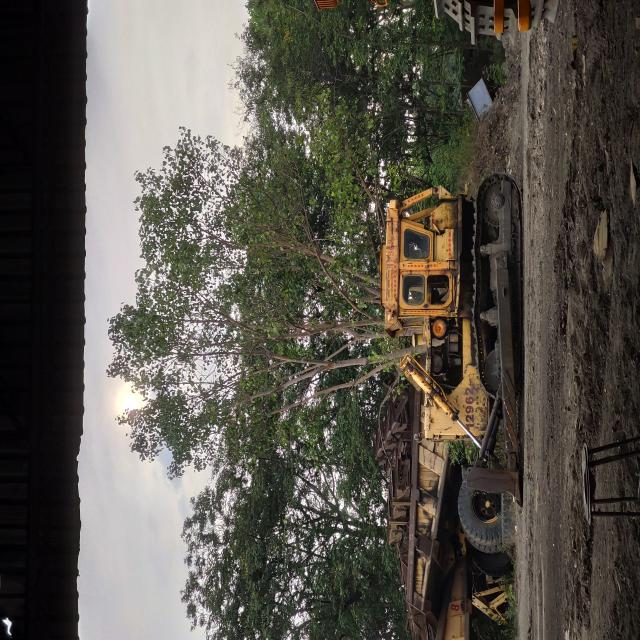buldozerpayloadergrader: (145, 507, 340, 640)
dump_truck: (0, 500, 191, 640)
